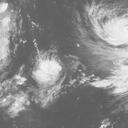cyclone: (88, 3, 127, 62), (30, 48, 66, 88)
